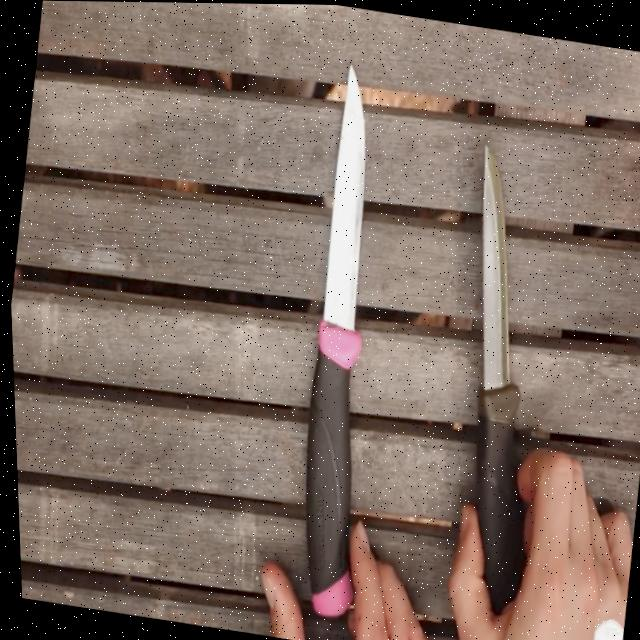knife: (263, 57, 426, 627), (415, 134, 581, 623)
